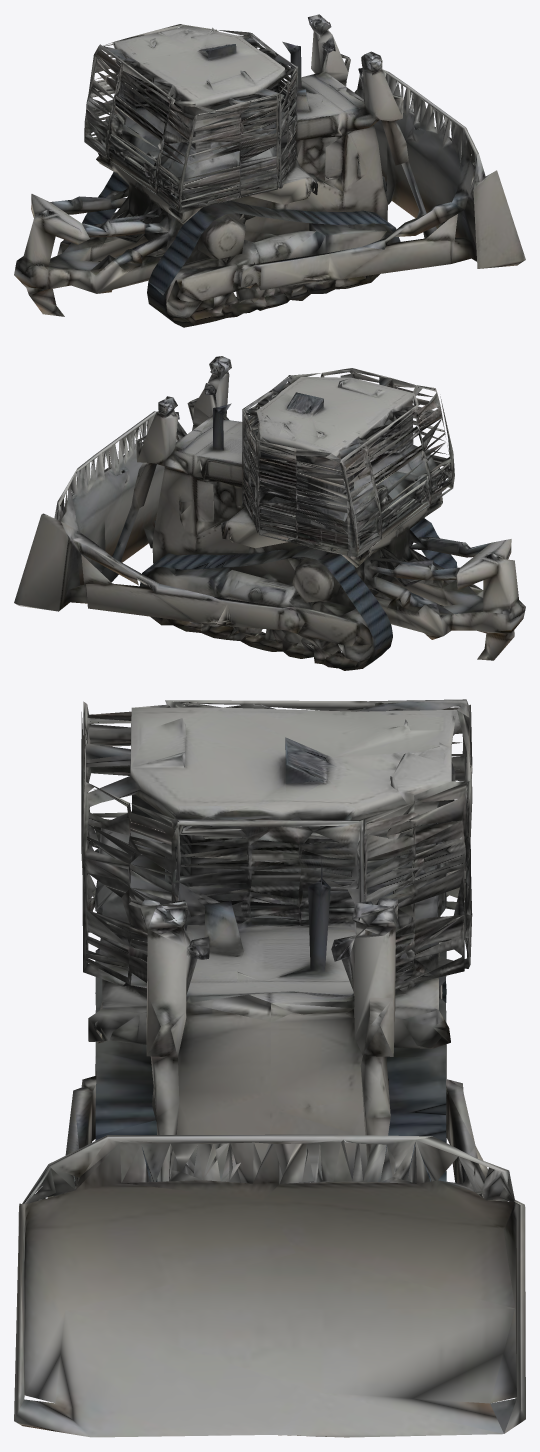
The model's file is bulldozer.glb.
3 views of the same model, one above another, from view 1: azimuth 30°, elevation 25°; view 2: azimuth 150°, elevation 25°; view 3: azimuth 270°, elevation 25° (orthographic). The views are drawn at different scales.
Visible parts, largest first — view 1: tripo_node_fbbb8baf-3ce2-43ac-befc-8f8020d136ef; view 2: tripo_node_fbbb8baf-3ce2-43ac-befc-8f8020d136ef; view 3: tripo_node_fbbb8baf-3ce2-43ac-befc-8f8020d136ef.
Boxes of the visible parts, box(x1,y1,x2,y2) form: tripo_node_fbbb8baf-3ce2-43ac-befc-8f8020d136ef: box(14, 14, 525, 327); tripo_node_fbbb8baf-3ce2-43ac-befc-8f8020d136ef: box(14, 356, 525, 670); tripo_node_fbbb8baf-3ce2-43ac-befc-8f8020d136ef: box(14, 699, 525, 1437).
Size of the model in its own units: 0.9427 by 0.4675 by 0.4737.
1 material, 1 textured.
